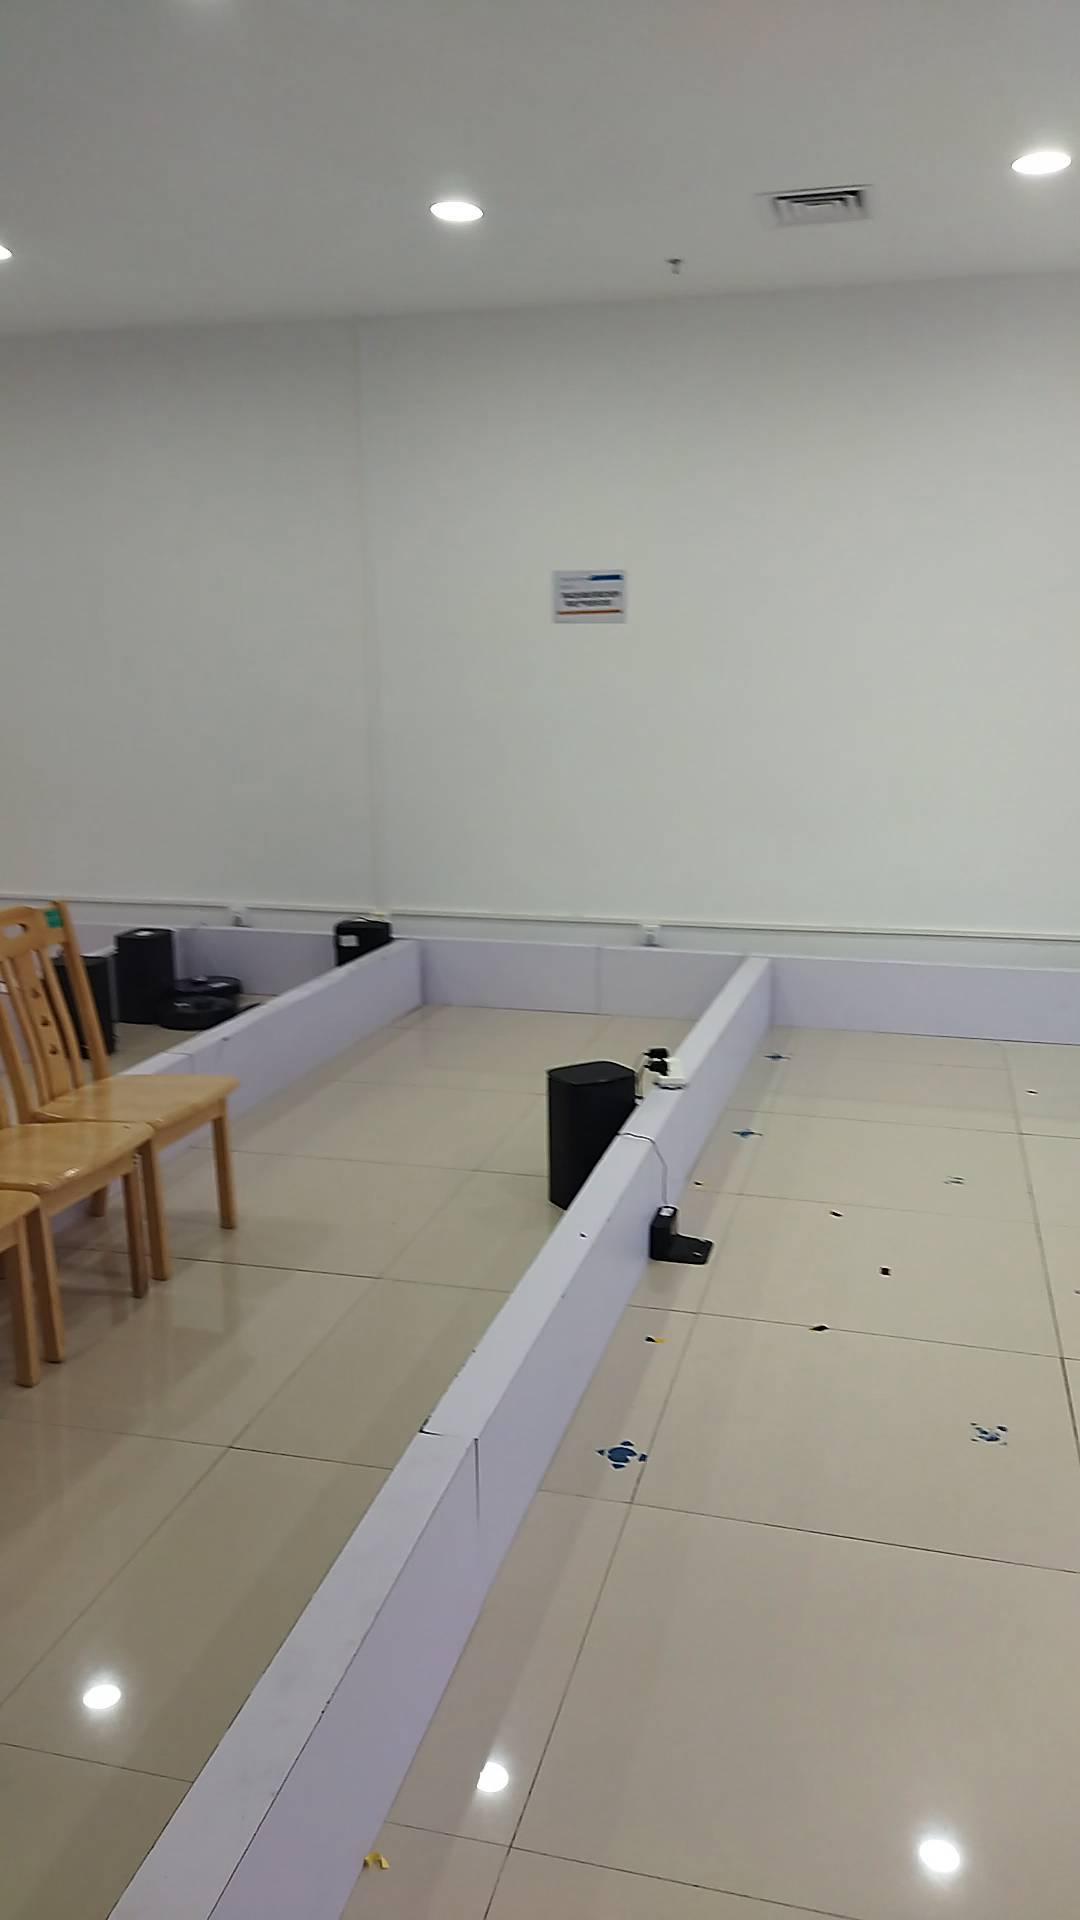dust collecting barrel: (549, 1063, 636, 1211), (55, 952, 117, 1062), (116, 928, 177, 1025)
recharge seat: (650, 1204, 717, 1269)
